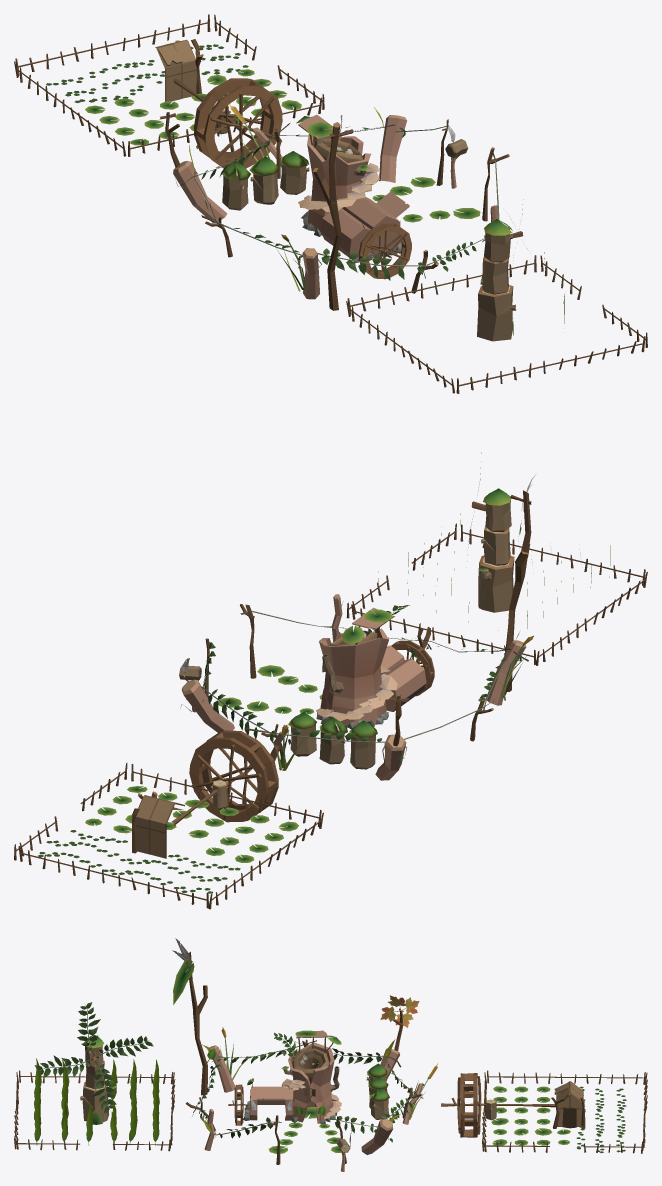
3 renders of one model, top to bottom at view 1: azimuth 30°, elevation 25°; view 2: azimuth 150°, elevation 25°; view 3: azimuth 270°, elevation 25°, orthographic. The views are drawn at different scales.
Parts seen in each view (by area): view 1: nestStage_16, watermill.000, watermillHouse.000; view 2: nestStage_16, watermill.000, watermillHouse.000; view 3: nestStage_16, windmill.000, watermill.000, nestStageWindmill_11.002, watermillHouse.000.
Boxes of the visible parts, box(x1,y1,x2,y2) form: nestStage_16: box(14, 14, 647, 393); watermill.000: box(173, 78, 282, 168); watermillHouse.000: box(358, 223, 411, 279); nestStage_16: box(14, 474, 647, 909); watermill.000: box(171, 730, 278, 825); watermillHouse.000: box(391, 640, 434, 696); nestStage_16: box(14, 938, 647, 1171); windmill.000: box(34, 1002, 153, 1113); watermill.000: box(441, 1073, 555, 1137); nestStageWindmill_11.002: box(380, 995, 419, 1027); watermillHouse.000: box(228, 1084, 249, 1125).
Bounding box in the file's own units: 6.39 × 4.8 × 17.09.
